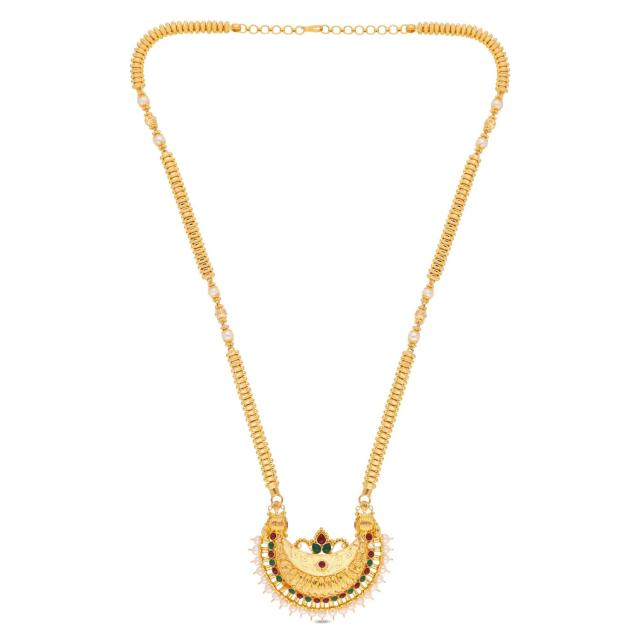missing gem: (368, 542, 374, 549), (282, 582, 289, 588)
